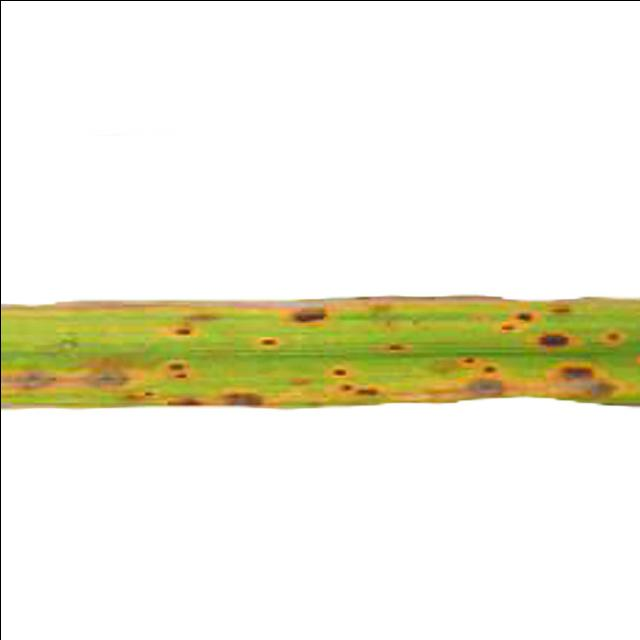Brown spot: (0, 271, 640, 448)
